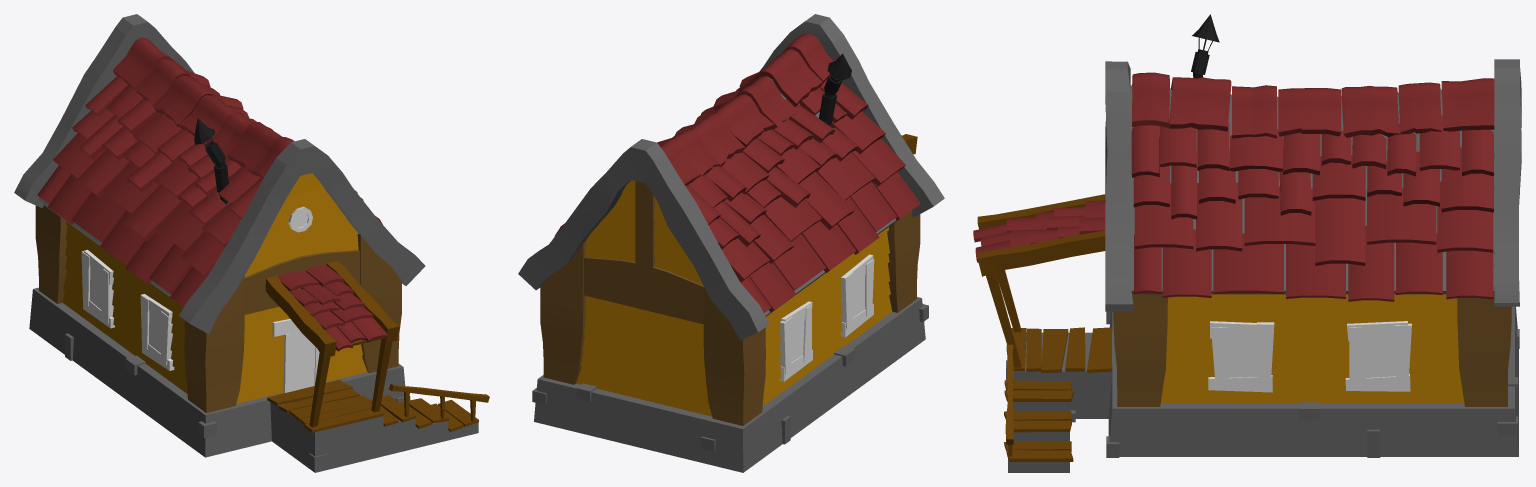
The model's file is HouseRevised_final.fbx.
3 views of the same model, side by side, from view 1: azimuth 30°, elevation 25°; view 2: azimuth 150°, elevation 25°; view 3: azimuth 270°, elevation 25° (orthographic). The views are drawn at different scales.
Visible parts, largest first — view 1: house_mesh; view 2: house_mesh; view 3: house_mesh.
Part boxes in pixels (<box>): house_mesh: <box>14,14,489,472</box>; house_mesh: <box>518,14,944,472</box>; house_mesh: <box>973,14,1521,472</box>.
Size of the model in its own units: 4.61 by 5.11 by 7.29.
